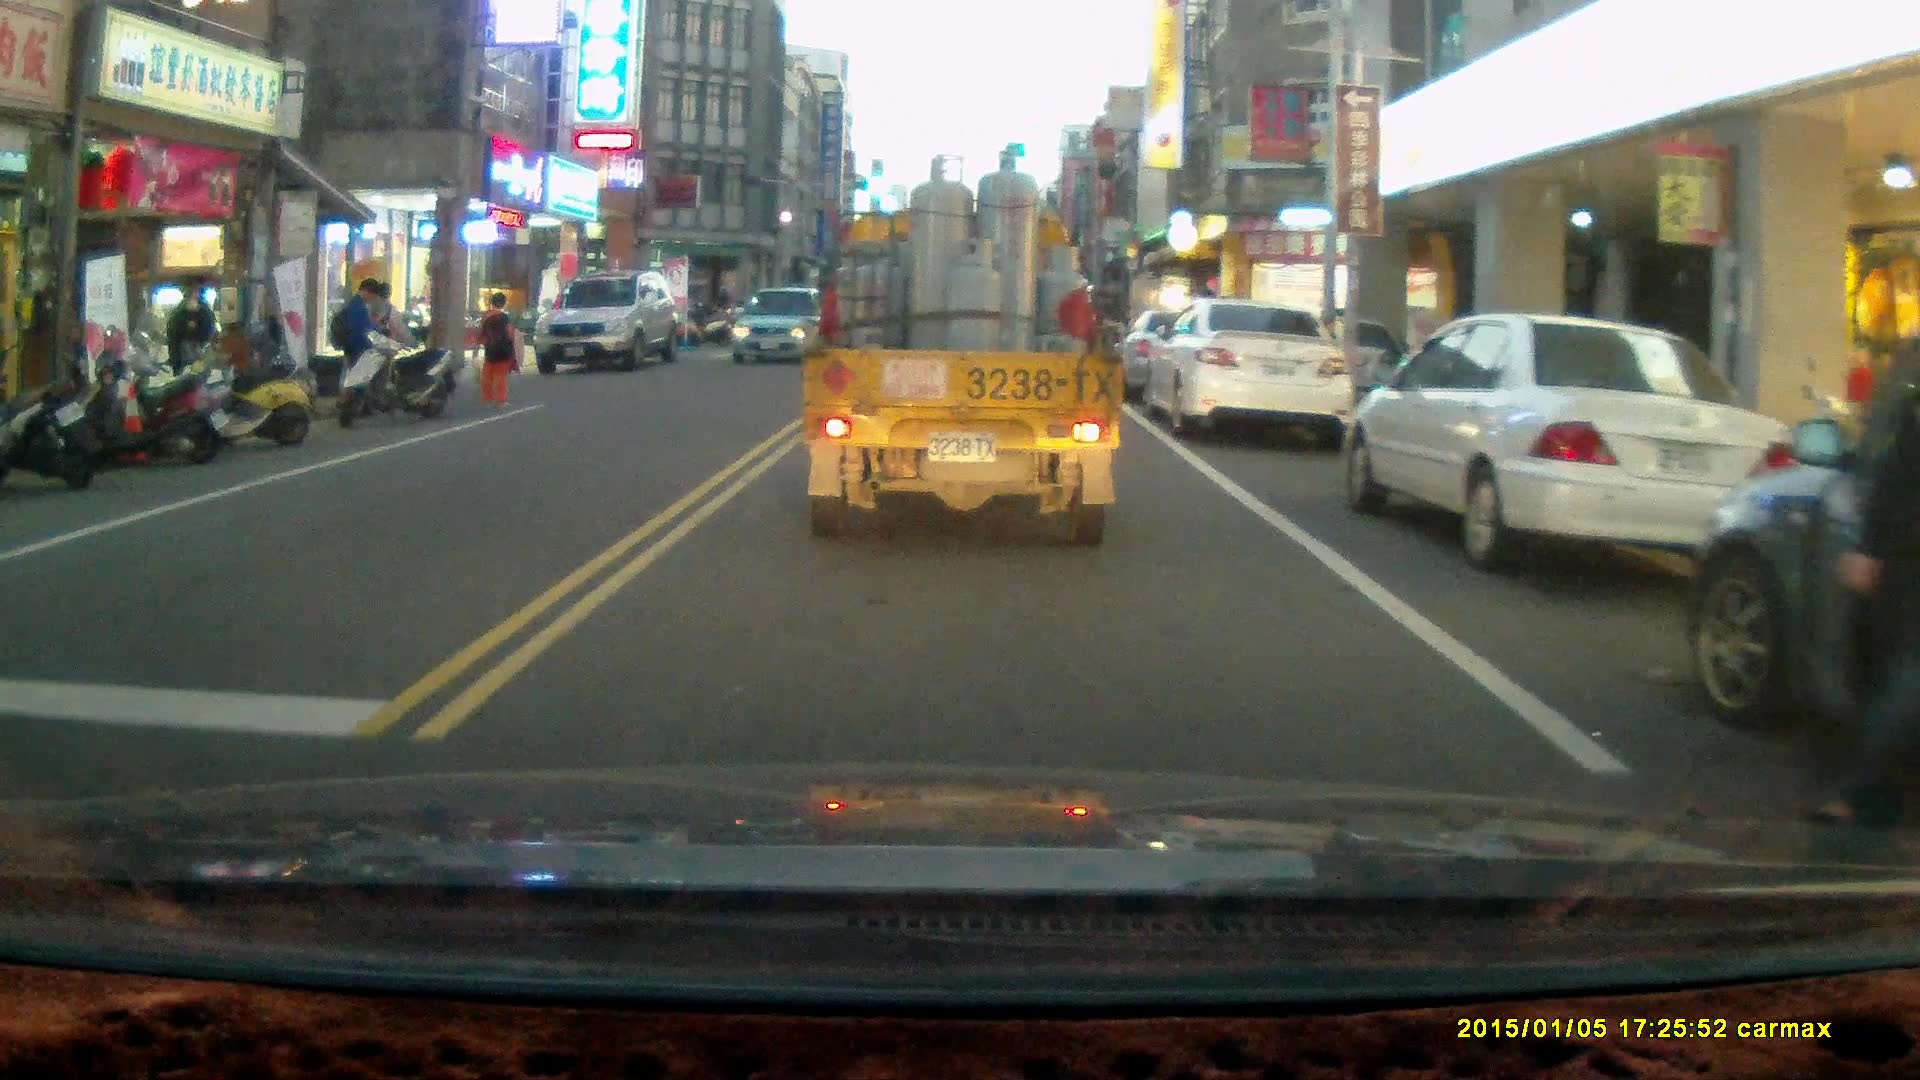pedestrian: (318, 277, 376, 418), (163, 284, 209, 427), (468, 292, 520, 411)
vehicle: (799, 152, 1129, 549), (1340, 312, 1806, 578), (1685, 383, 1920, 800), (1142, 300, 1349, 439), (536, 271, 686, 373), (728, 288, 834, 370)
